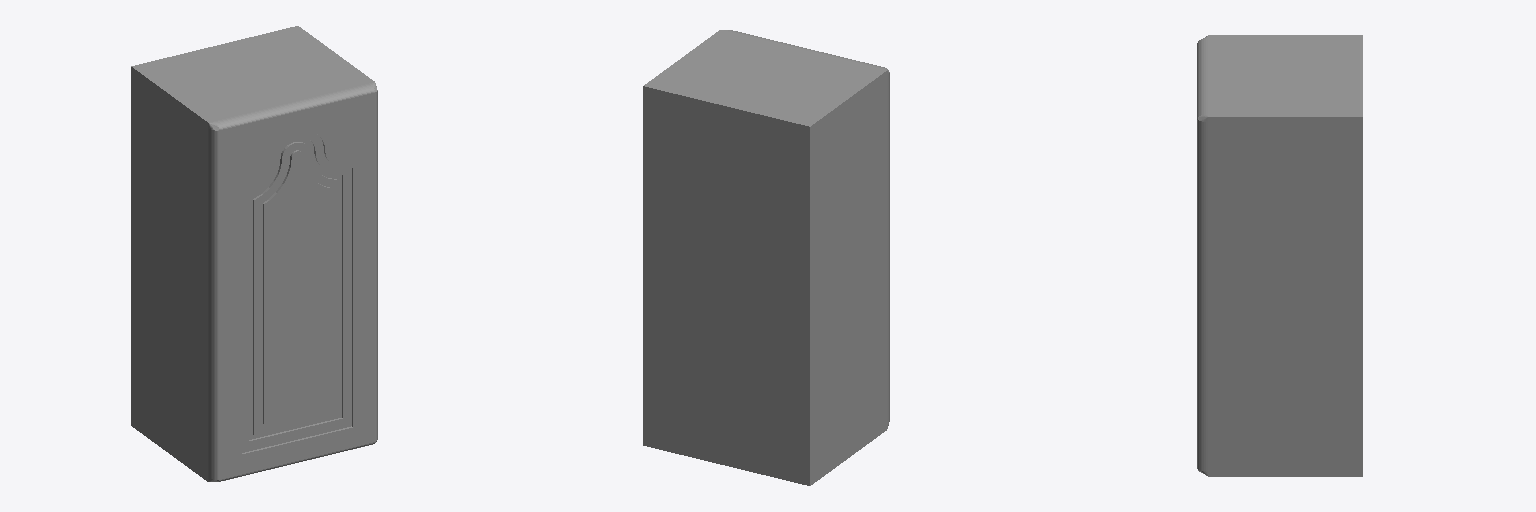
File: single-wall-unit-350.obj
3 renders of one model, left to right at view 1: azimuth 30°, elevation 25°; view 2: azimuth 150°, elevation 25°; view 3: azimuth 270°, elevation 25°, orthographic.
Parts seen in each view (by area): view 1: Cube.003_Cube.008, Cube.002_Cube.004, Cube_Cube.002, Cube.001_Cube.003; view 2: Cube_Cube.002, Cube.002_Cube.004, Cube.001_Cube.003, Cube.003_Cube.008; view 3: Cube.001_Cube.003, Cube_Cube.002, Cube.003_Cube.008, Cube.002_Cube.004.
Part boxes in pixels (x1,y1,x2,y2): Cube.003_Cube.008: (208,82,377,481); Cube.002_Cube.004: (131,65,214,481); Cube_Cube.002: (139,27,367,120); Cube.001_Cube.003: (291,26,374,83); Cube_Cube.002: (650,31,879,484); Cube.002_Cube.004: (803,69,886,485); Cube.001_Cube.003: (643,30,726,446); Cube.003_Cube.008: (724,30,889,428); Cube.001_Cube.003: (1208,113,1362,476); Cube_Cube.002: (1208,39,1362,112); Cube.003_Cube.008: (1197,36,1207,475); Cube.002_Cube.004: (1208,35,1362,38).
Size of the model in its own units: 70 by 144 by 60.